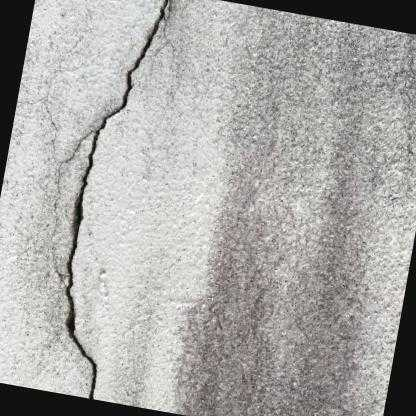crack: (64, 0, 168, 399)
